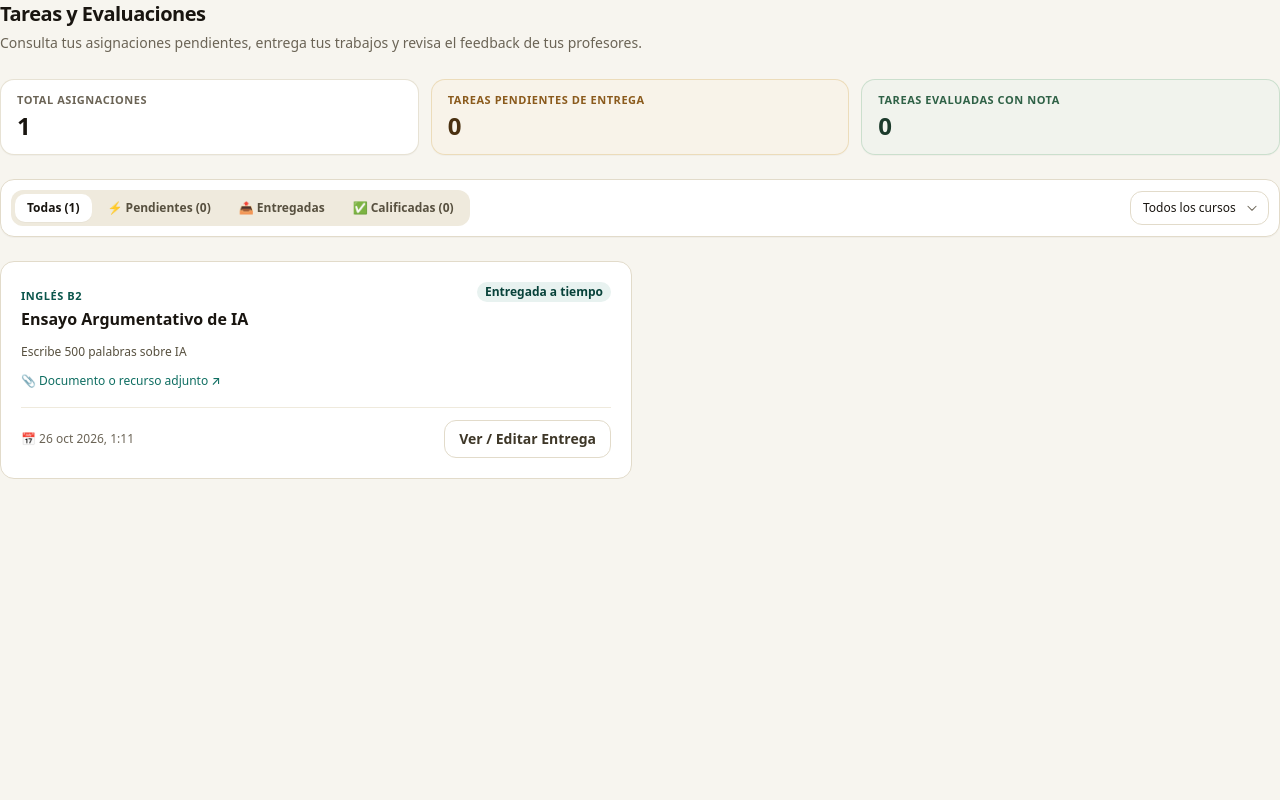
Test: AssignmentsPanel (Minimalist & EdTech UX) › renders student view with delivery status and opens StudentAssignmentModal
Expected: the heading "Tareas y Evaluaciones" is shown, x1=0 y1=0 x2=206 y2=27
Click the button "Ver / Editar Entrega": (528, 439) x1=444 y1=420 x2=611 y2=458
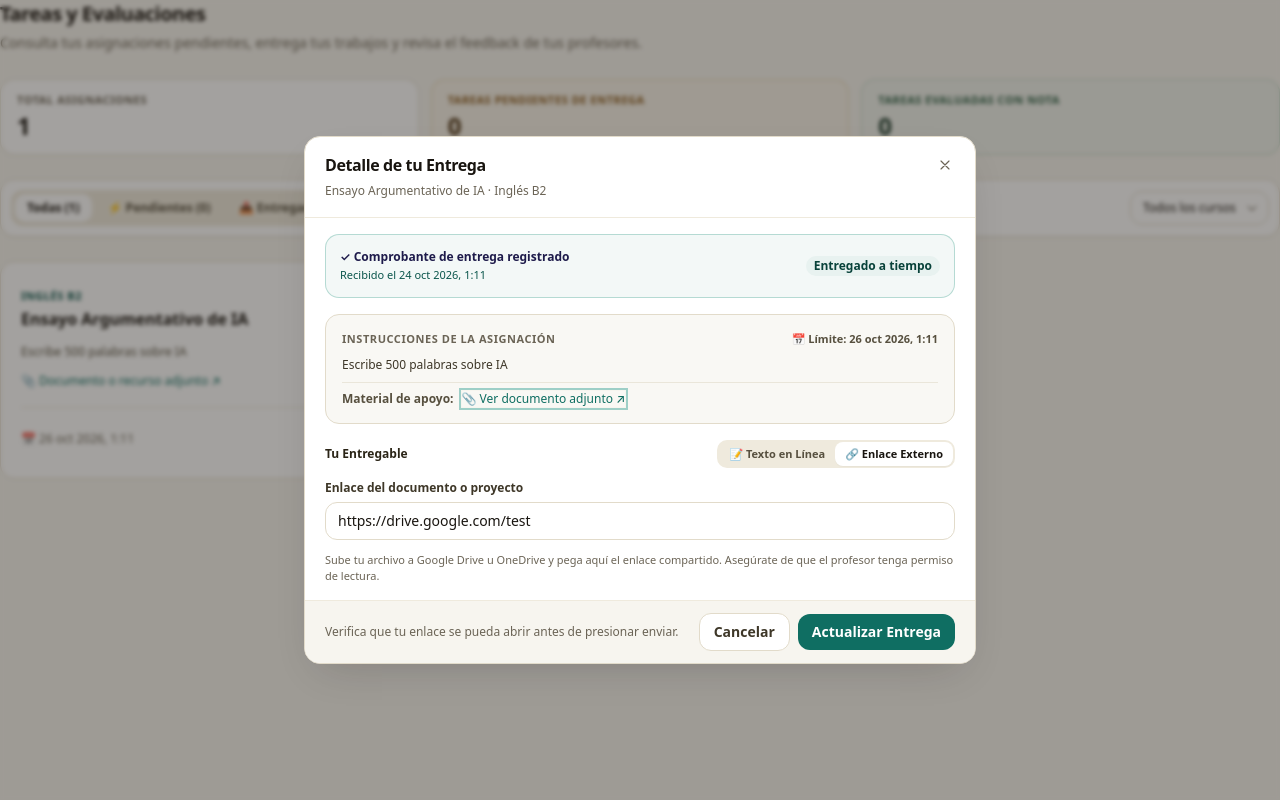
Result: the heading "Detalle de tu Entrega" is shown at x1=325 y1=154 x2=486 y2=176
Result: the text "✓ Comprobante de entrega registrado" is shown at x1=340 y1=248 x2=569 y2=264
